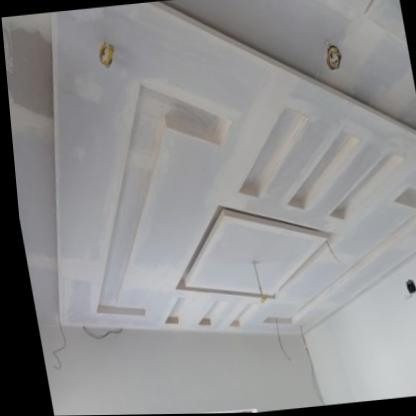Gypsum Board: (0, 0, 416, 365)
